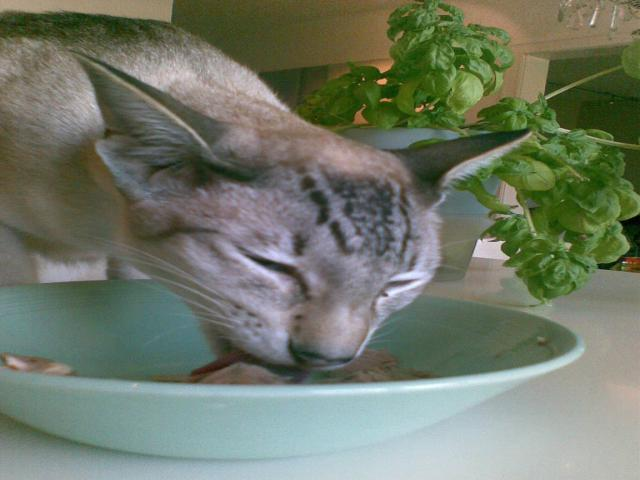Cat: (0, 7, 541, 379)
